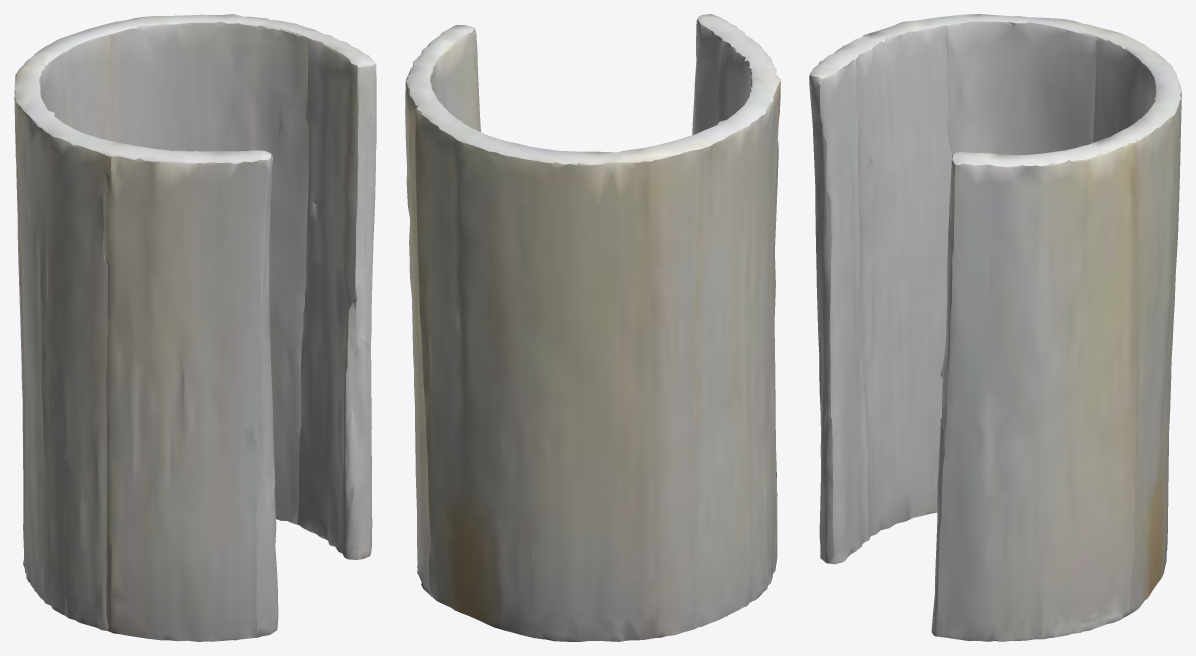
3 views of the same model, side by side, from view 1: azimuth 30°, elevation 25°; view 2: azimuth 150°, elevation 25°; view 3: azimuth 270°, elevation 25° (orthographic).
Visible parts, largest first — view 1: world; view 2: world; view 3: world.
Boxes of the visible parts, bbox=[...] form: world: bbox=[14, 14, 376, 641]; world: bbox=[405, 14, 780, 641]; world: bbox=[809, 14, 1181, 641].
Size of the model in its own units: 0.3475 by 0.5075 by 0.3535.
Materials: 1 (1 with a texture image).
